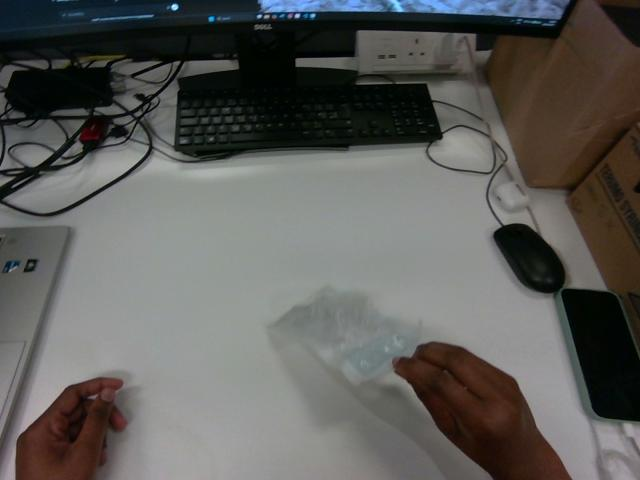gallipot: (270, 287, 420, 384)
